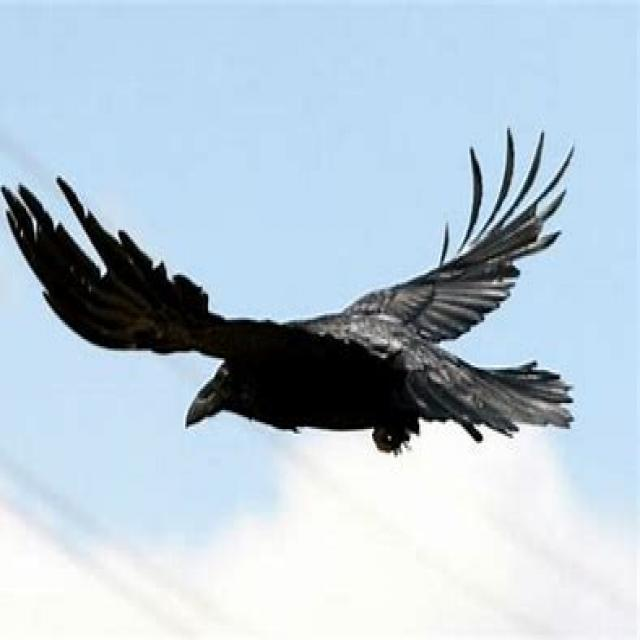crow: (9, 129, 582, 450)
